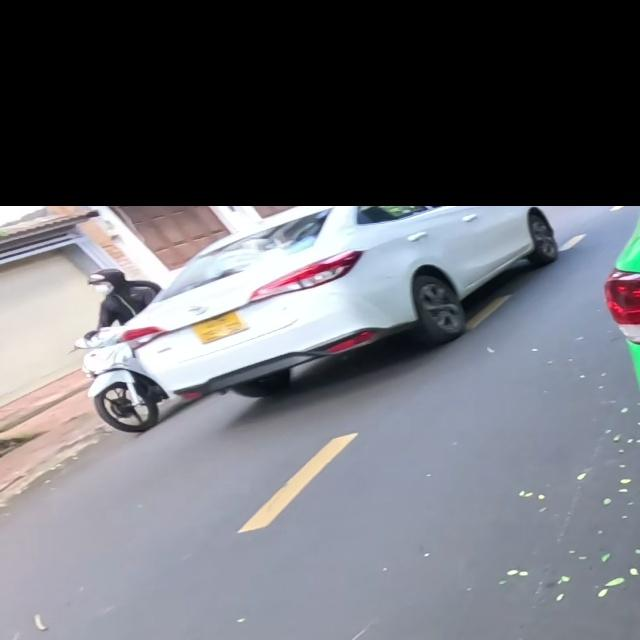license-plate: (190, 310, 248, 344)
